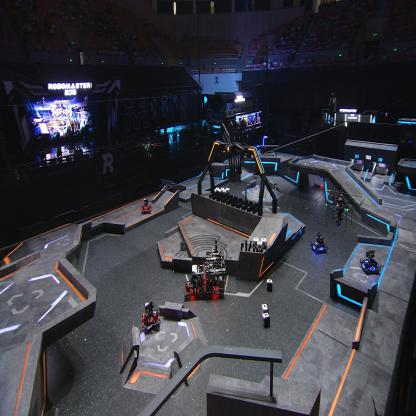car: (204, 249, 226, 299), (184, 264, 206, 300), (141, 300, 162, 335), (360, 249, 380, 275), (310, 232, 328, 254), (141, 197, 152, 214)
